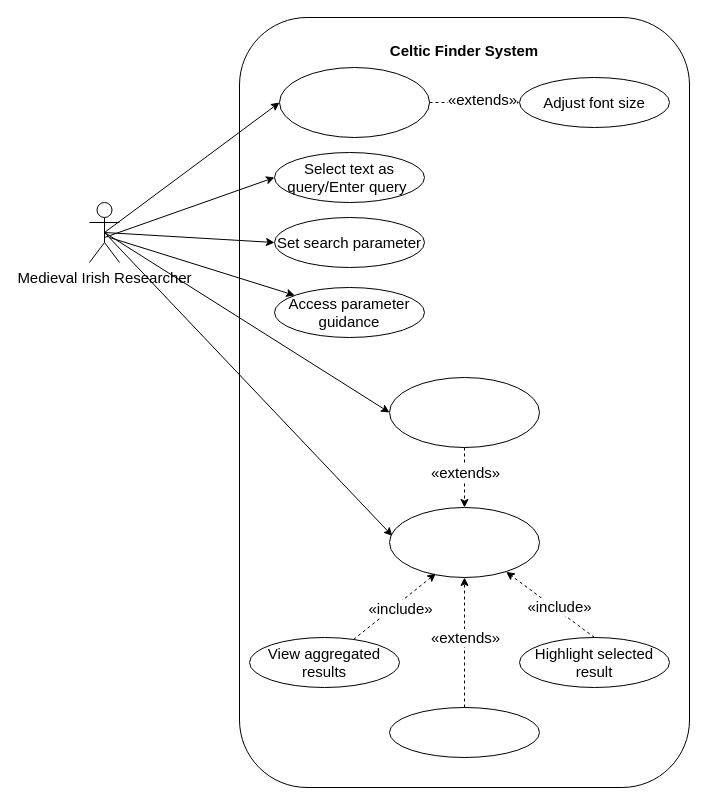
This 707x805 diagram has some shape labels left out. Each missing label, with the centre of its shape:
"Filter results" goes at (464,732).
"Interact with results" goes at (464,542).
"Manage text sources" goes at (354,102).
"Perform search" goes at (464,412).
